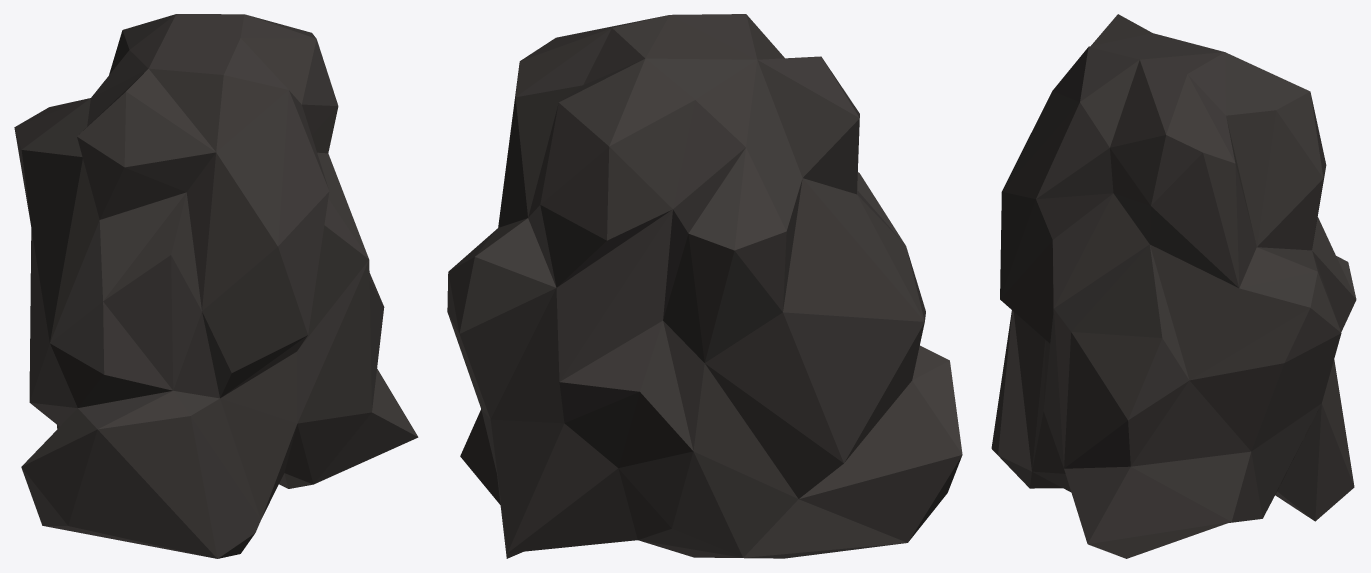
Rendered from Rock_5_LOD_1.fbx.
The picture shows the model from 3 angles, left to right: view 1: azimuth 30°, elevation 25°; view 2: azimuth 150°, elevation 25°; view 3: azimuth 270°, elevation 25°; orthographic projection. The views are drawn at different scales.
Parts seen in each view (by area): view 1: Group20290; view 2: Group20290; view 3: Group20290.
Boxes of the visible parts, <box> form: Group20290: <box>14,14,418,558</box>; Group20290: <box>447,14,962,558</box>; Group20290: <box>991,14,1356,558</box>.
Size of the model in its own units: 4.53 by 5.07 by 3.68.
